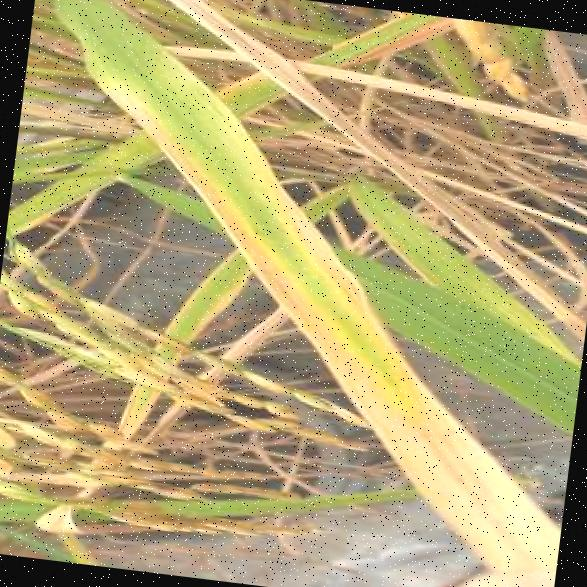Bacteria_Leaf_Blight: (170, 112, 376, 354)
